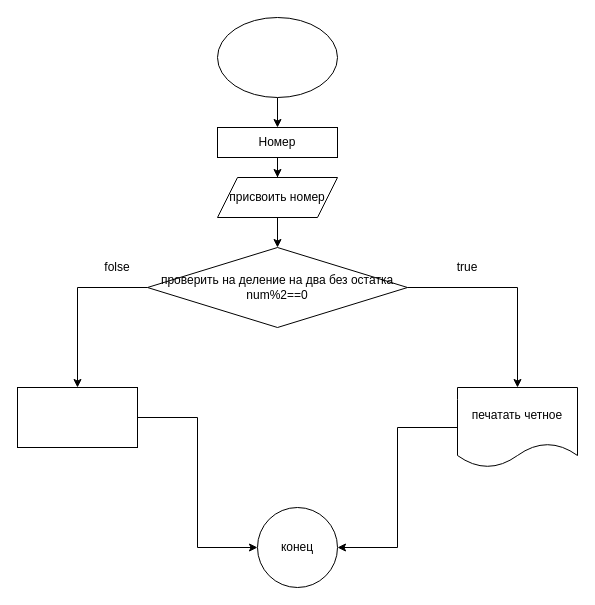
Image size: 595x605. Some labels were removed from this diagram. Here are the shapes that lost their labels. From the top down, the centre of each, then its label:
pixel 277 57: начало
pixel 77 417: пропустить
